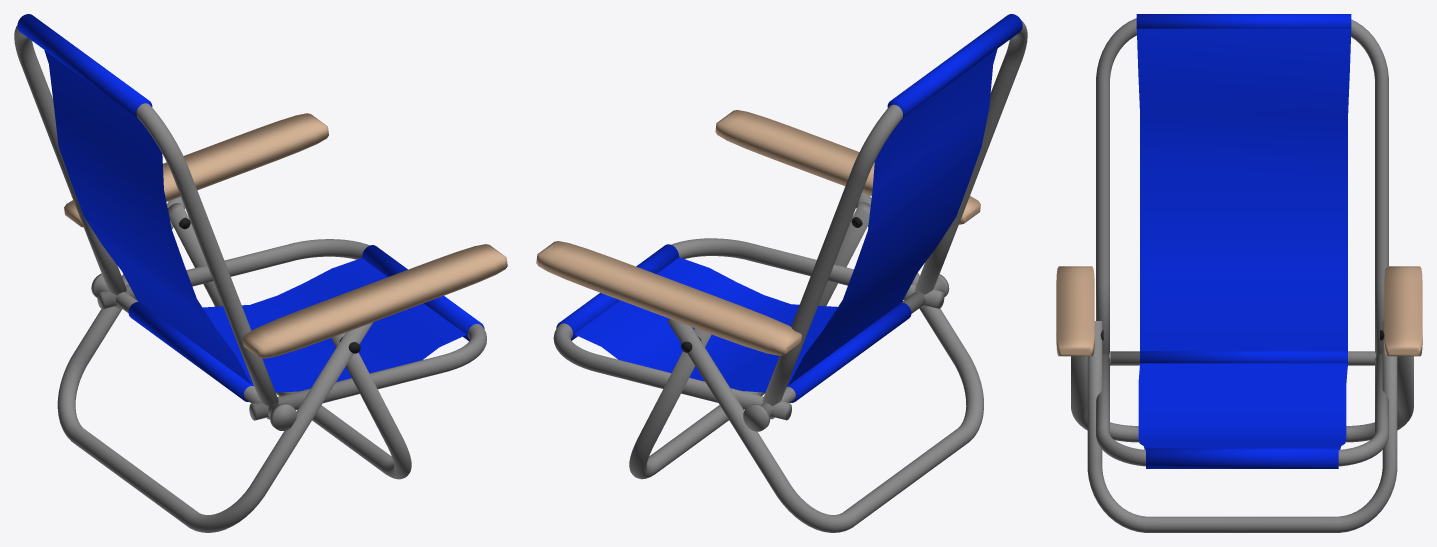
File: Chair.glb
3 renders of one model, left to right at view 1: azimuth 30°, elevation 25°; view 2: azimuth 150°, elevation 25°; view 3: azimuth 270°, elevation 25°, orthographic. The views are drawn at different scales.
Parts seen in each view (by area): view 1: Chair; view 2: Chair; view 3: Chair.
Boxes of the visible parts, box(x1,y1,x2,y2) form: Chair: box(14, 14, 507, 532); Chair: box(536, 14, 1027, 532); Chair: box(1056, 14, 1422, 532).
Bounding box in the file's own units: 0.7999 × 0.9472 × 0.7778.
